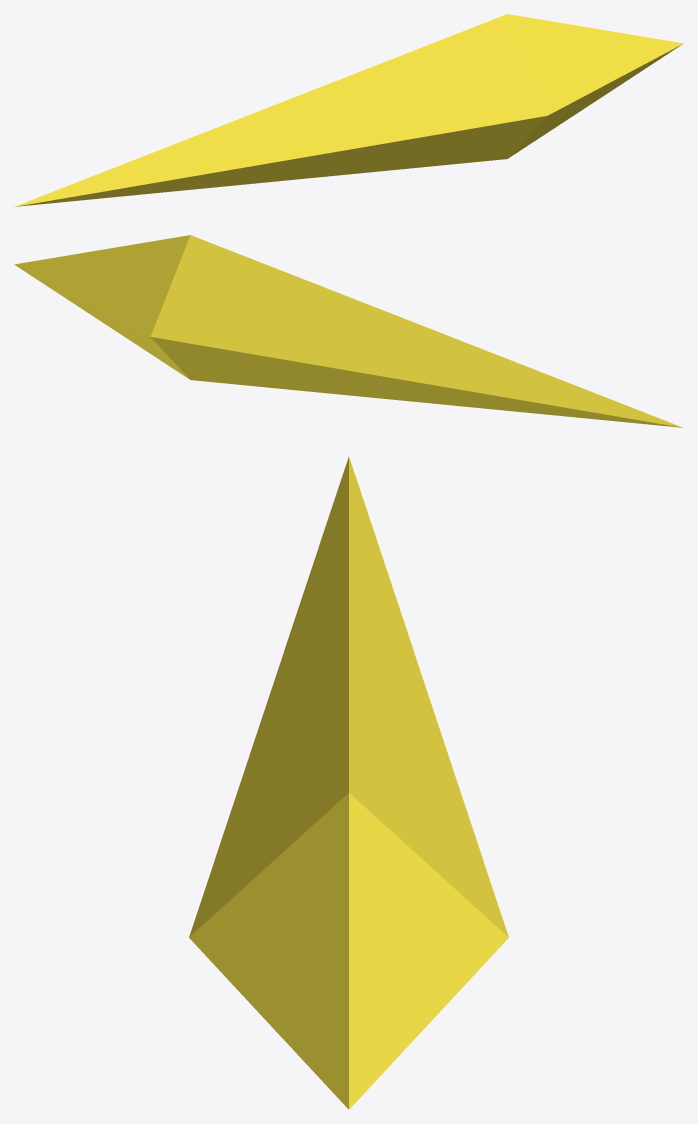
File: pin.glb
The picture shows the model from 3 angles, top to bottom: view 1: azimuth 30°, elevation 25°; view 2: azimuth 150°, elevation 25°; view 3: azimuth 270°, elevation 25°; orthographic projection. The views are drawn at different scales.
Parts seen in each view (by area): view 1: Cone; view 2: Cone; view 3: Cone.
Part boxes in pixels (box(x1,y1,x2,y2)): Cone: box(14, 14, 683, 206); Cone: box(14, 235, 683, 427); Cone: box(189, 457, 508, 1109).
Bounding box in the file's own units: 0.4341 × 0.0898 × 0.0898.
